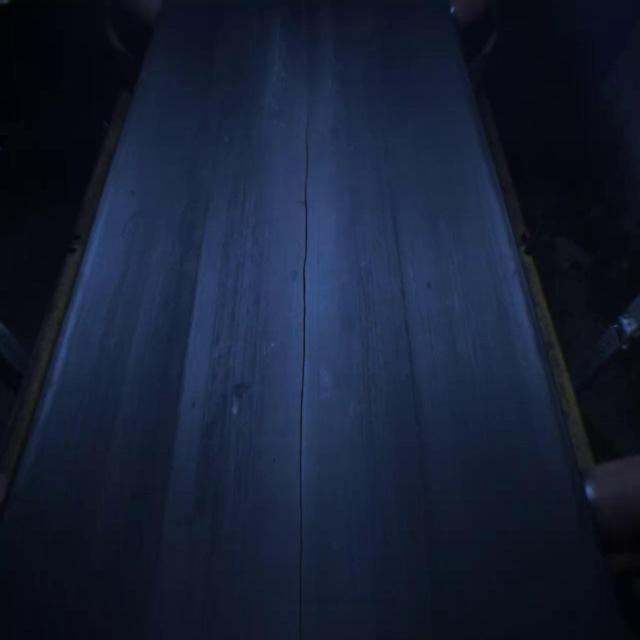Tear: (287, 19, 319, 640)
